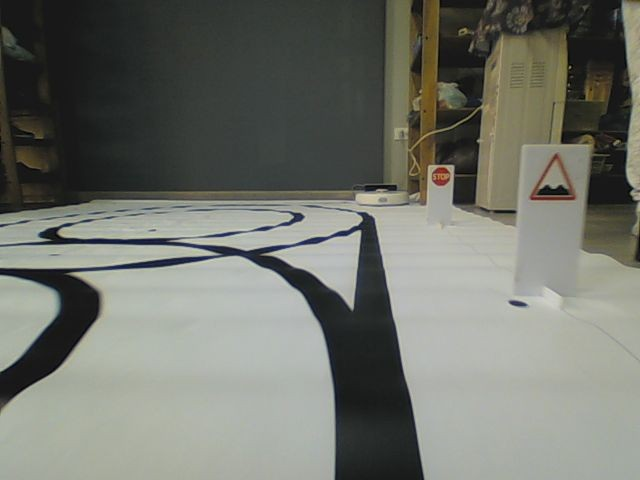Stop: (431, 167, 451, 186)
